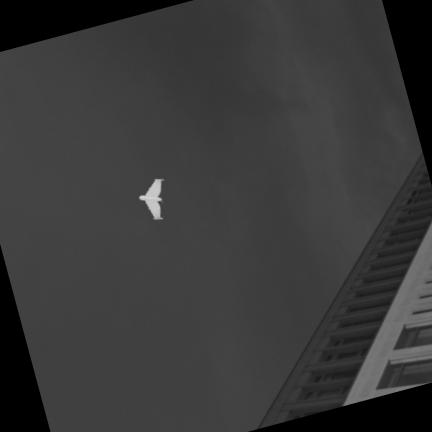Shahed: (139, 178, 162, 218)
